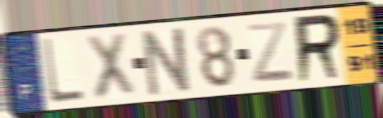8: (195, 24, 236, 90)
L: (40, 36, 86, 107)
N: (140, 24, 195, 99)
R: (293, 11, 344, 87)
X: (84, 30, 138, 103)
Z: (244, 19, 297, 85)
